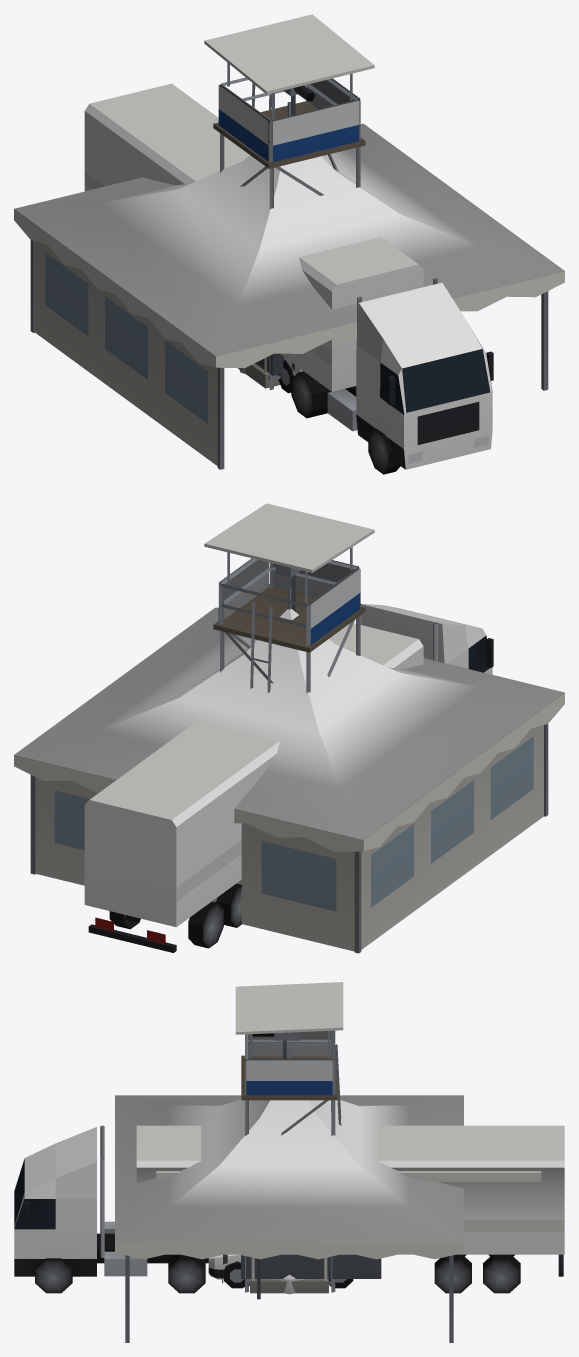
File: trackside-kit.glb
The picture shows the model from 3 angles, top to bottom: view 1: azimuth 30°, elevation 25°; view 2: azimuth 150°, elevation 25°; view 3: azimuth 270°, elevation 25°; orthographic projection. The views are drawn at different scales.
Parts seen in each view (by area): view 1: prop_marquee, prop_truck, prop_camera_tower; view 2: prop_marquee, prop_truck, prop_camera_tower; view 3: prop_marquee, prop_truck, prop_camera_tower, prop_marshal_post, prop_suv.
Boxes of the visible parts, x1,y1,x2,y2 form: prop_marquee: (14,102,564,469); prop_truck: (84,83,493,474); prop_camera_tower: (204,14,374,390); prop_marquee: (14,585,564,953); prop_truck: (84,604,493,952); prop_camera_tower: (204,503,374,693); prop_marquee: (115,1049,463,1342); prop_truck: (14,1125,564,1293); prop_camera_tower: (235,982,343,1292); prop_marshal_post: (250,1257,328,1299); prop_suv: (208,1254,353,1288).
Size of the model in its own units: 9.72 by 8.24 by 15.31.
